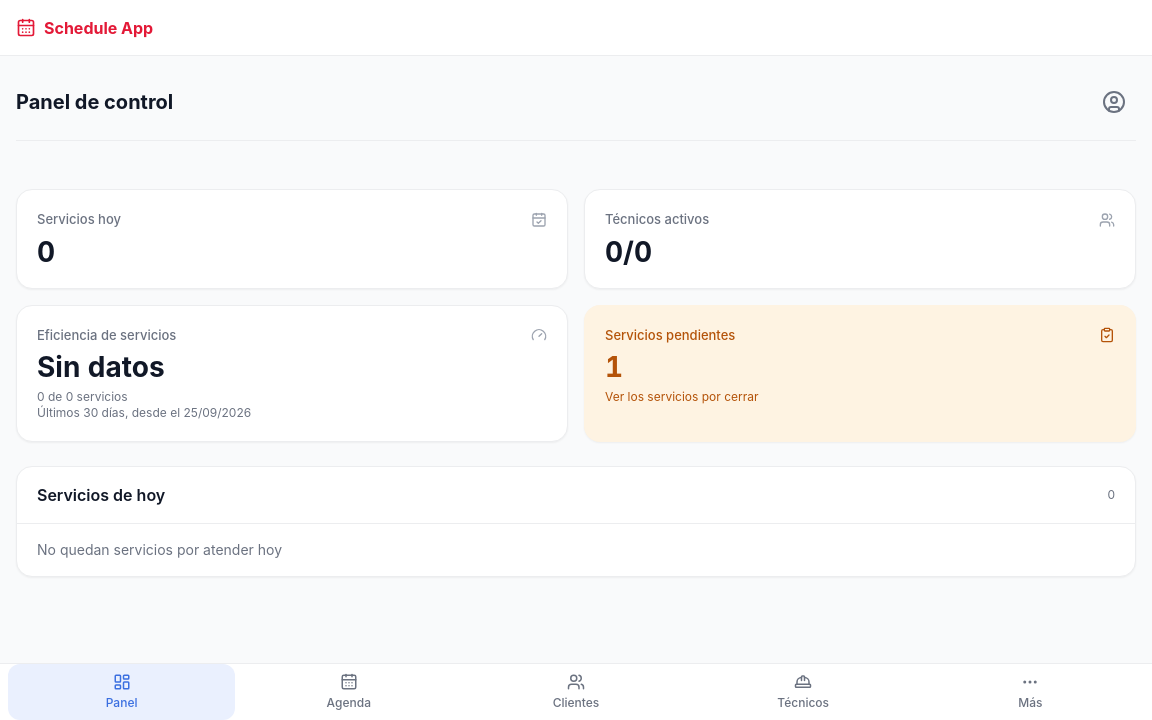
Test: rutas de la aplicación › en móvil: Panel, "Servicios pendientes", la lista "Por cerrar", "Volver" y de nuevo el Panel
The image size is (1152, 720).
What coordinates should you click on to do the following:
click the link "Servicios pendientes 1 Ver los servicios por cerrar"
I would click on:
 (670, 334)
Its box is [584,304,1136,442].
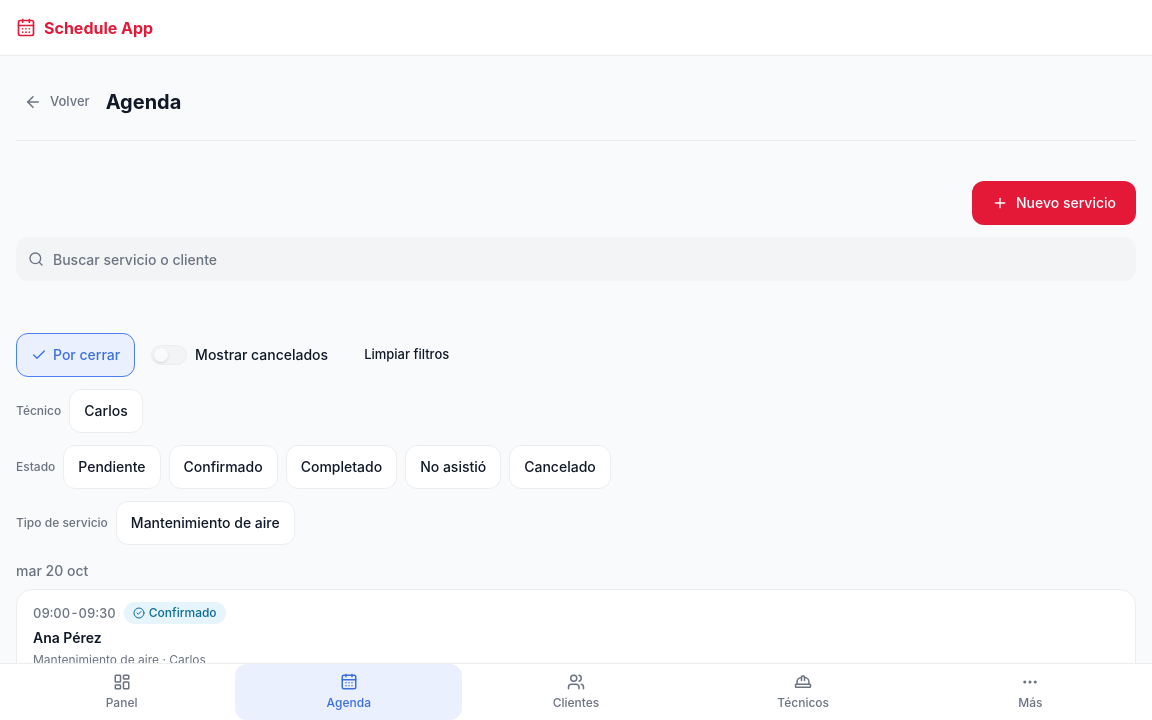
Expected: the button with aria-label "Ana Pérez, Mantenimiento de aire" is shown, [16,589,1136,681]
What coordinates should you click on to do the following:
click the button "Volver"
I would click on:
 (57, 102)
Its box is [16,80,98,124].
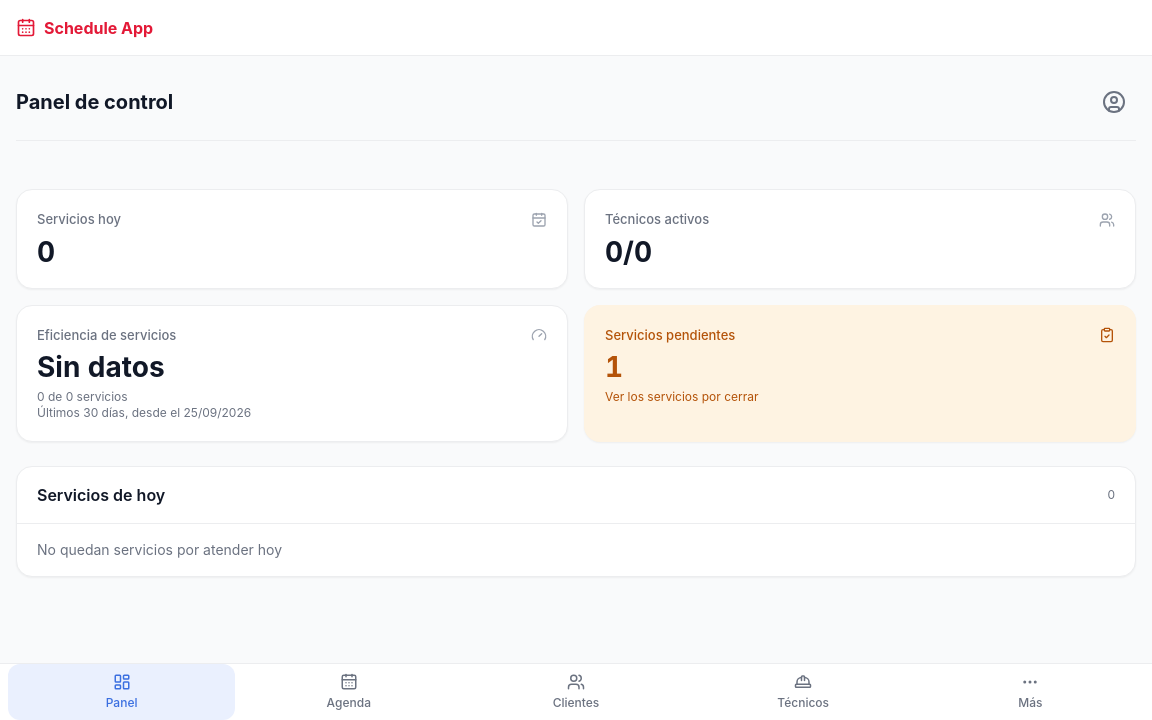
Expected: the heading "Panel de control" is shown, [16,88,173,116]
Expected: the link "Servicios pendientes 1 Ver los servicios por cerrar" is shown, [584,304,1136,442]
